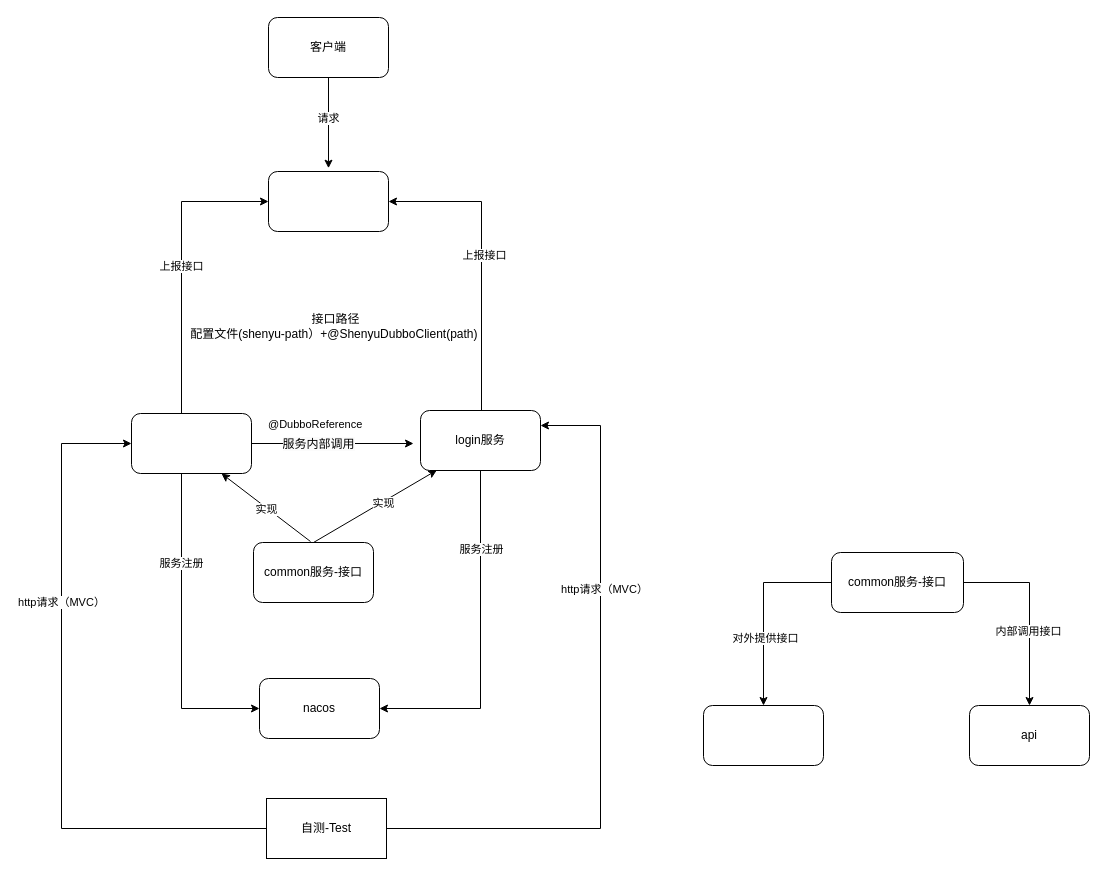
This 1107x876 diagram has some shape labels left out. The centre of each missing label's shape, as x and y in pixels:
ads-data服务: point 191,443
controller: point 763,735
网关-getway-鉴权: point 328,201
